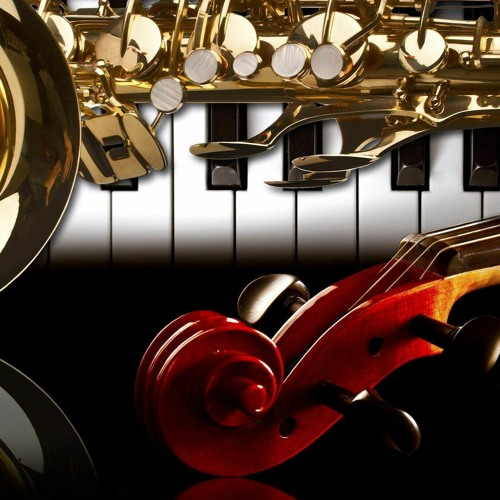Piano: (5, 82, 500, 307)
Saxophone: (1, 1, 500, 285)
Violin: (109, 204, 500, 500)
